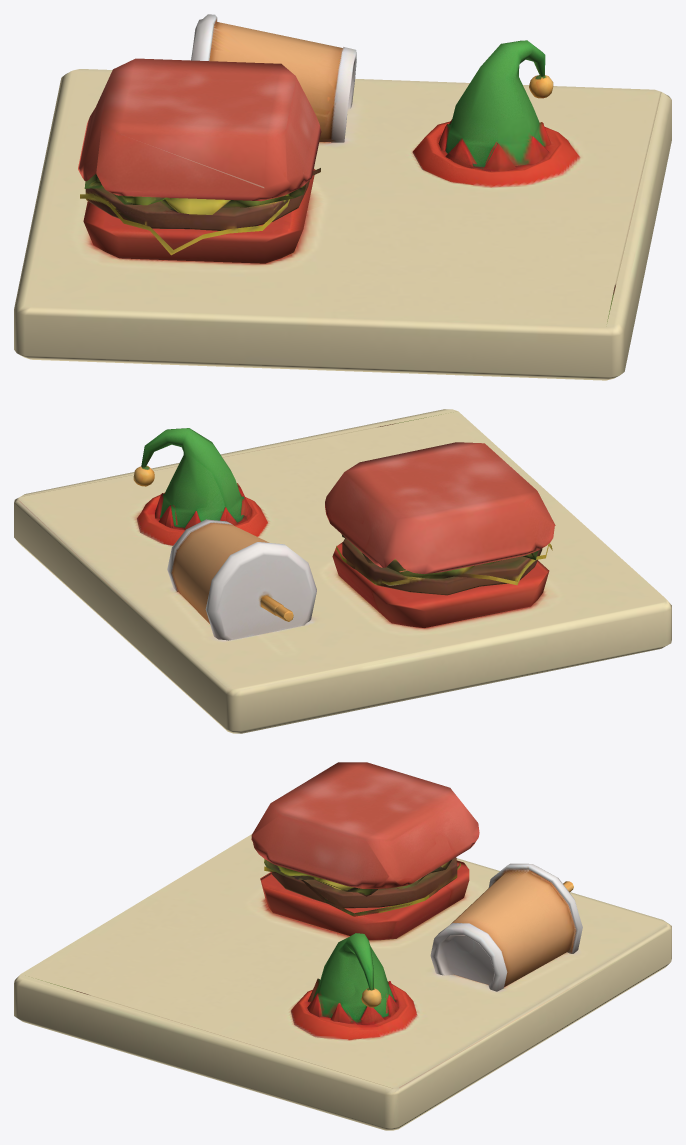
3 views of the same model, one above another, from view 1: azimuth 30°, elevation 25°; view 2: azimuth 150°, elevation 25°; view 3: azimuth 270°, elevation 25° (orthographic). The views are drawn at different scales.
Visible parts, largest first — view 1: tripo_node_2097110e-5014-46ee-a894-786eba192e2e; view 2: tripo_node_2097110e-5014-46ee-a894-786eba192e2e; view 3: tripo_node_2097110e-5014-46ee-a894-786eba192e2e.
Part boxes in pixels (bbox=[...]): tripo_node_2097110e-5014-46ee-a894-786eba192e2e: bbox=[14, 14, 671, 380]; tripo_node_2097110e-5014-46ee-a894-786eba192e2e: bbox=[14, 409, 671, 733]; tripo_node_2097110e-5014-46ee-a894-786eba192e2e: bbox=[14, 762, 671, 1130].
Bounding box in the file's own units: 1.34 × 0.3145 × 1.33.
Materials: 1 (1 with a texture image).
